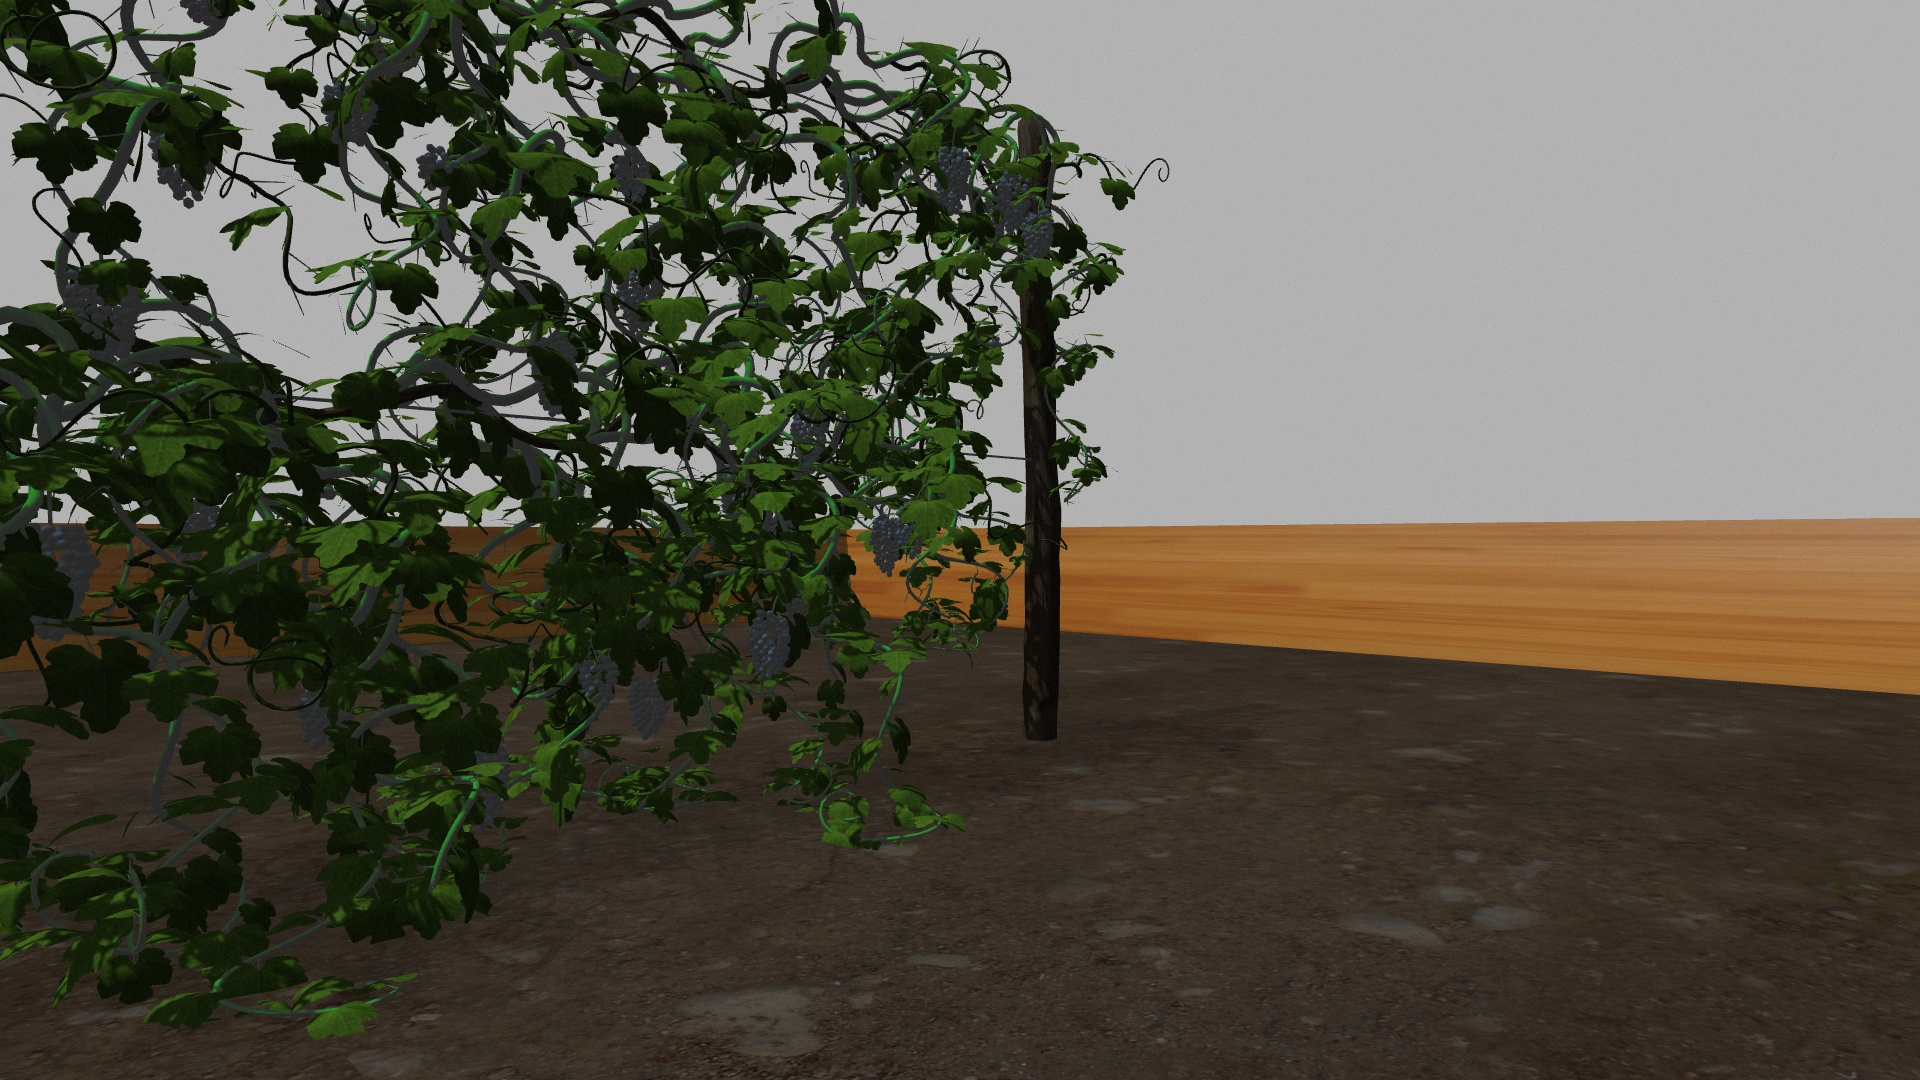grape: (30, 526, 99, 642), (66, 273, 146, 356), (320, 83, 377, 145), (618, 266, 665, 339), (297, 690, 349, 752), (748, 609, 789, 684), (473, 752, 512, 825), (626, 676, 669, 742), (934, 142, 971, 214), (578, 651, 618, 715), (870, 516, 909, 578), (790, 409, 828, 469), (415, 144, 458, 191), (615, 146, 651, 200), (997, 174, 1030, 232), (1023, 218, 1054, 262)
